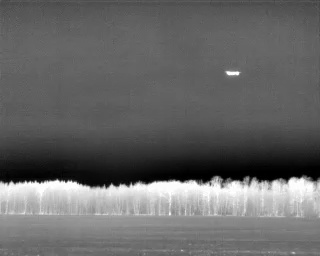DRONE: (222, 66, 244, 81)
